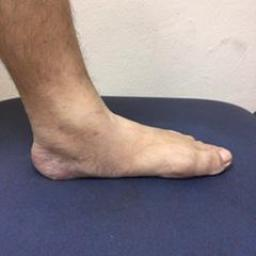Medial View -Left Foot-: (12, 89, 238, 195)
